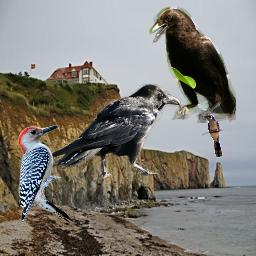Crow: (43, 83, 181, 183), (149, 6, 236, 123)
Cuckoo: (202, 115, 223, 158)
Woodpecker: (13, 121, 79, 231)
